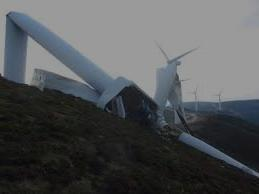faulty: (88, 82, 197, 142)
